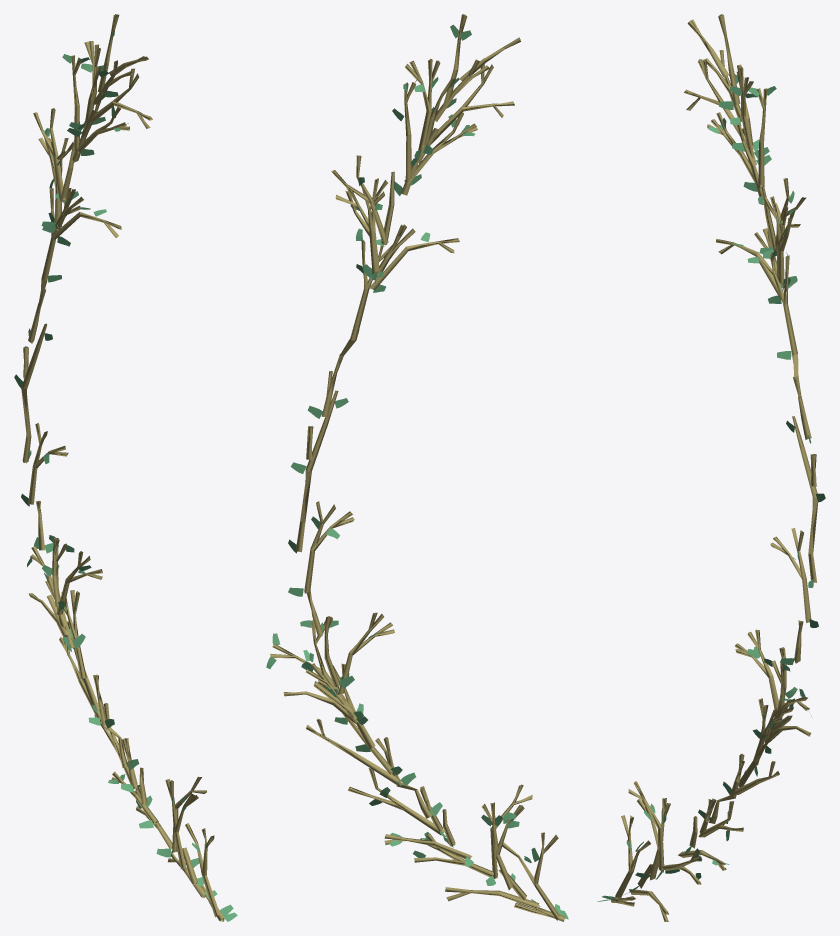
The model's file is vineLeaf.fbx.
The picture shows the model from 3 angles, left to right: view 1: azimuth 90°, elevation 25°; view 2: azimuth 150°, elevation 25°; view 3: azimuth 270°, elevation 25°; orthographic projection. The views are drawn at different scales.
Parts seen in each view (by area): view 1: vineLeafy7Main, vineLeafy7Leaf; view 2: vineLeafy7Main, vineLeafy7Leaf; view 3: vineLeafy7Main, vineLeafy7Leaf.
Part boxes in pixels (x1,y1,x2,y2): vineLeafy7Main: (21,14,224,921); vineLeafy7Leaf: (14,30,237,921); vineLeafy7Main: (270,14,565,921); vineLeafy7Leaf: (266,24,568,919); vineLeafy7Main: (611,14,818,921); vineLeafy7Leaf: (597,31,825,901).
Size of the model in its own units: 1.31 by 5.98 by 1.37.
